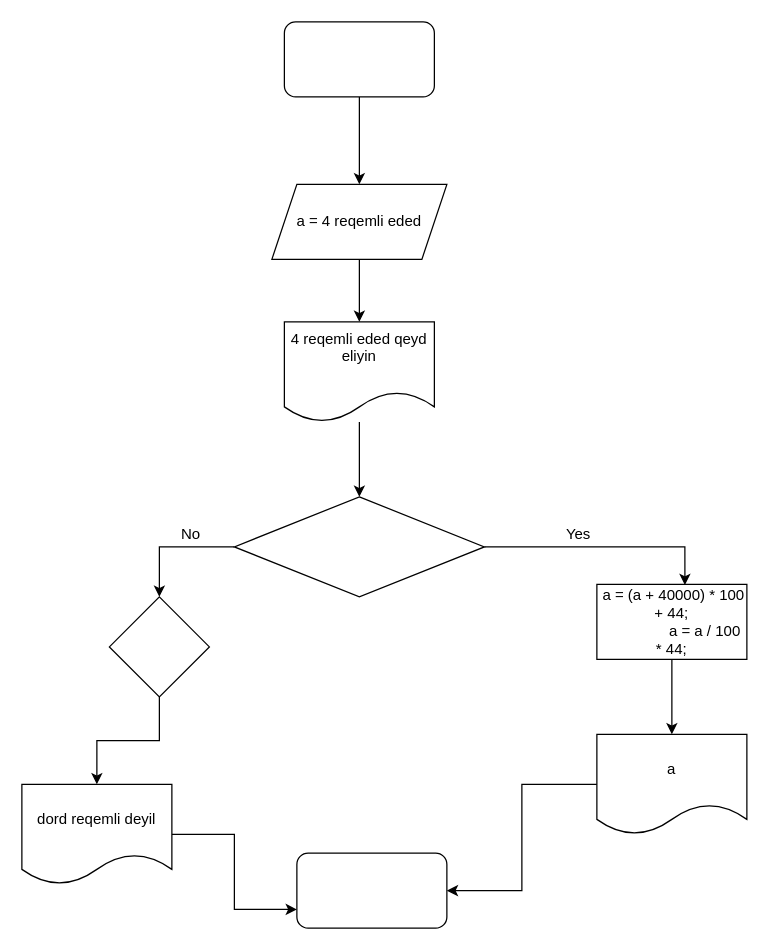
Some shapes in this 769 by 950 pixel diagram are drawn without their labels. Here are the shapes that lost their labels. From the top down, the centre of each, then its label:
the point at 358,59: START
the point at 358,546: a >= 1000 && a < 10000
the point at 371,890: END
